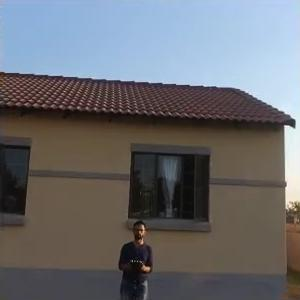follow: (115, 214, 154, 298)
